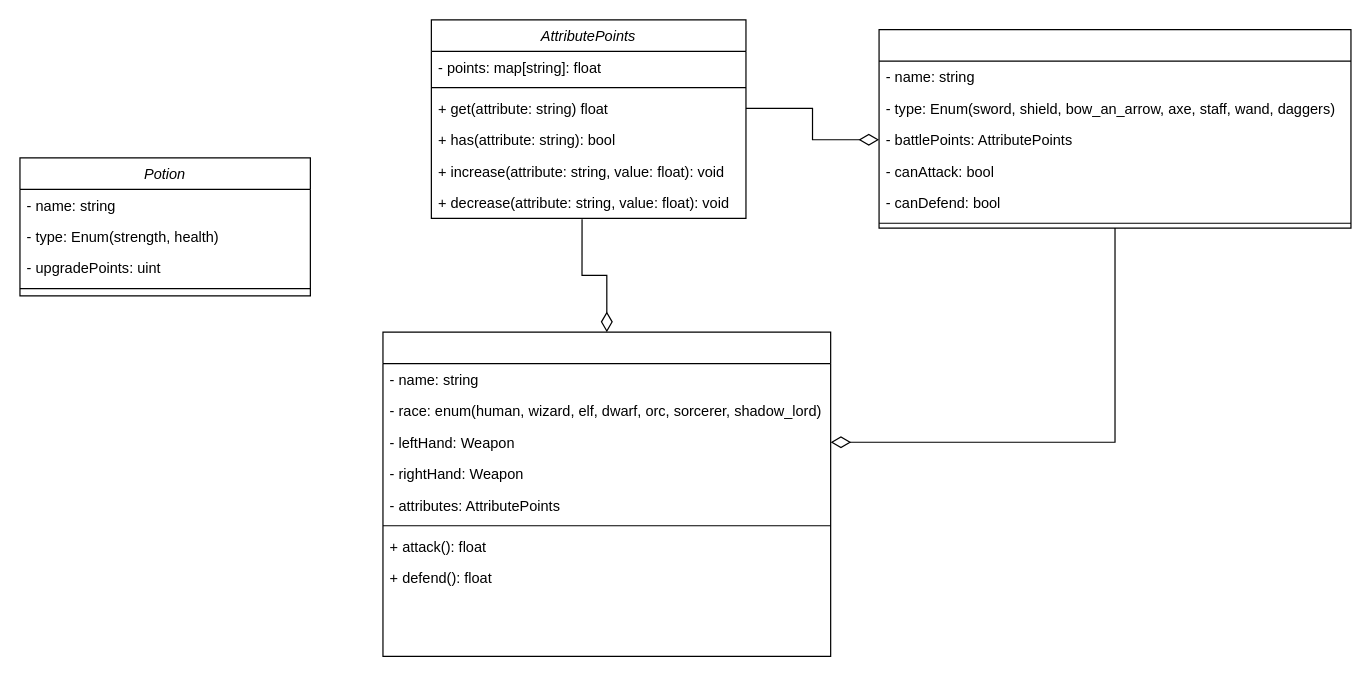
Some shapes in this 1371 by 676 pixel diagram are drawn without their labels. The box of each missing label's shape, as (x1, y1, x2, y2) in pixels:
Creature: (382, 331, 831, 656)
Weapon: (878, 28, 1351, 228)
